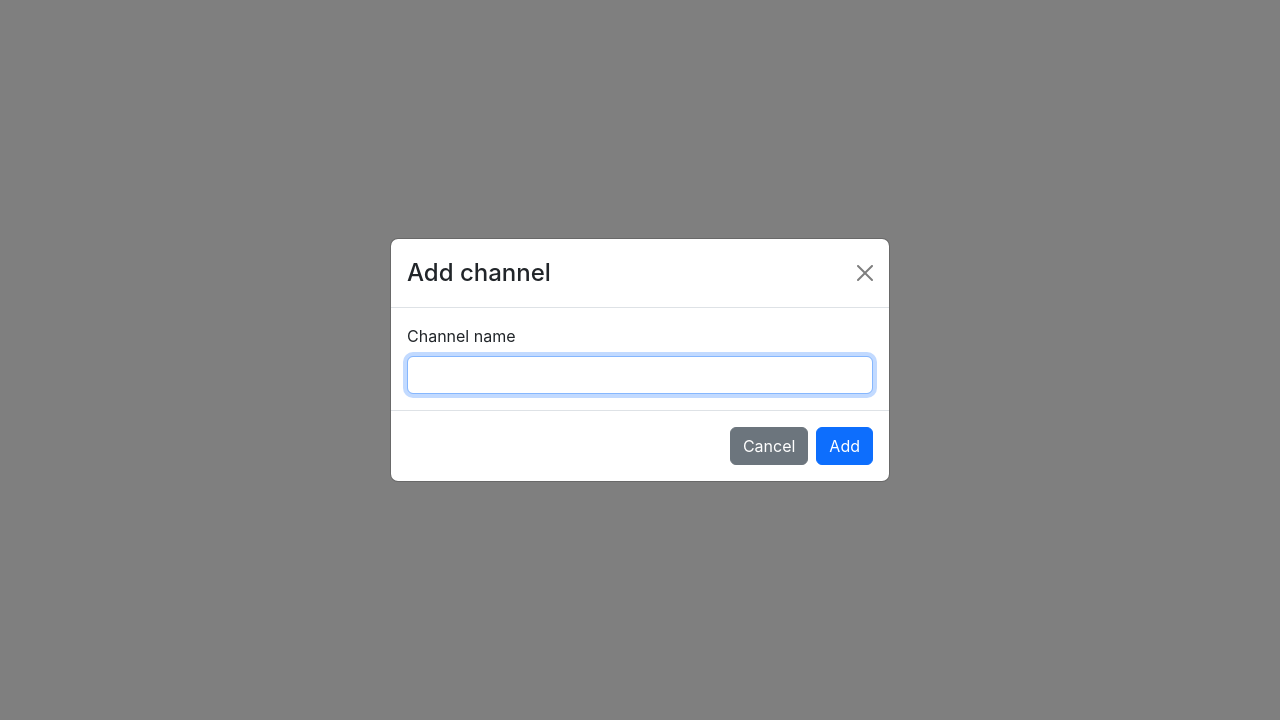
Test: AddChannelModal › shows validation error when channel name already exists
In the field labelled "Channel name": (640, 375) [407,356,873,394], type "general"
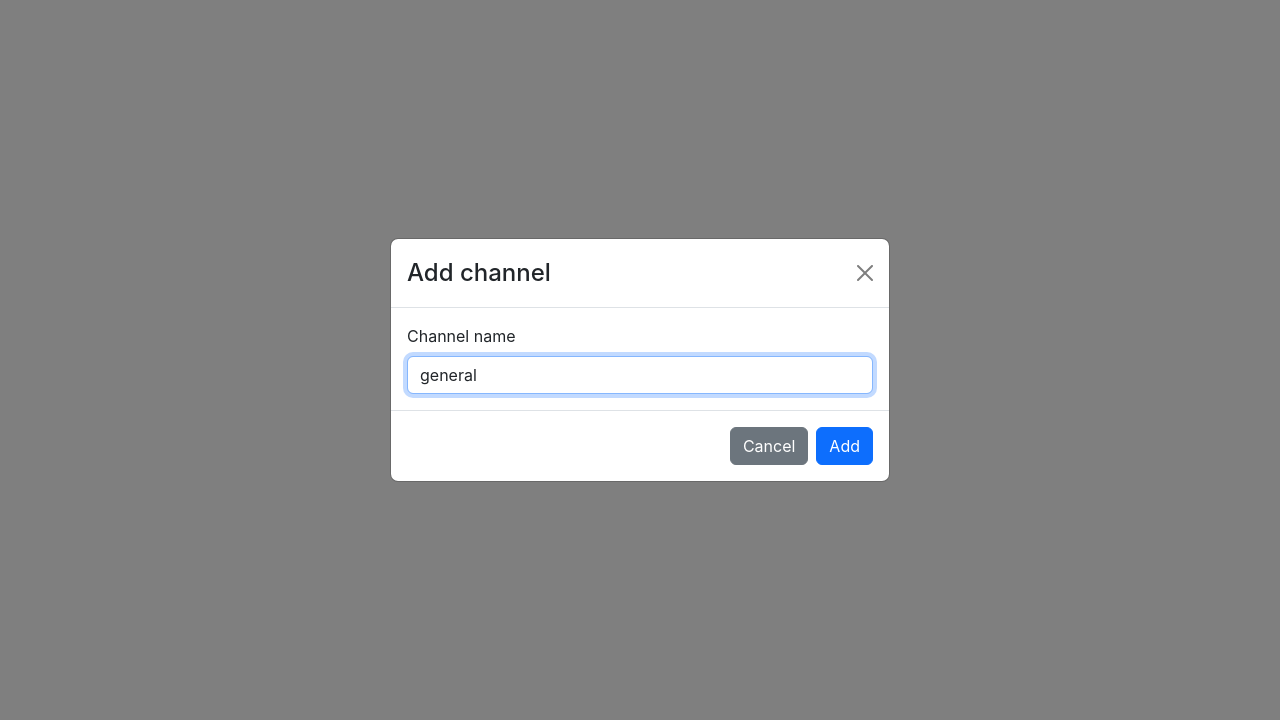
Click the button "Add": (845, 446) [816,427,873,465]
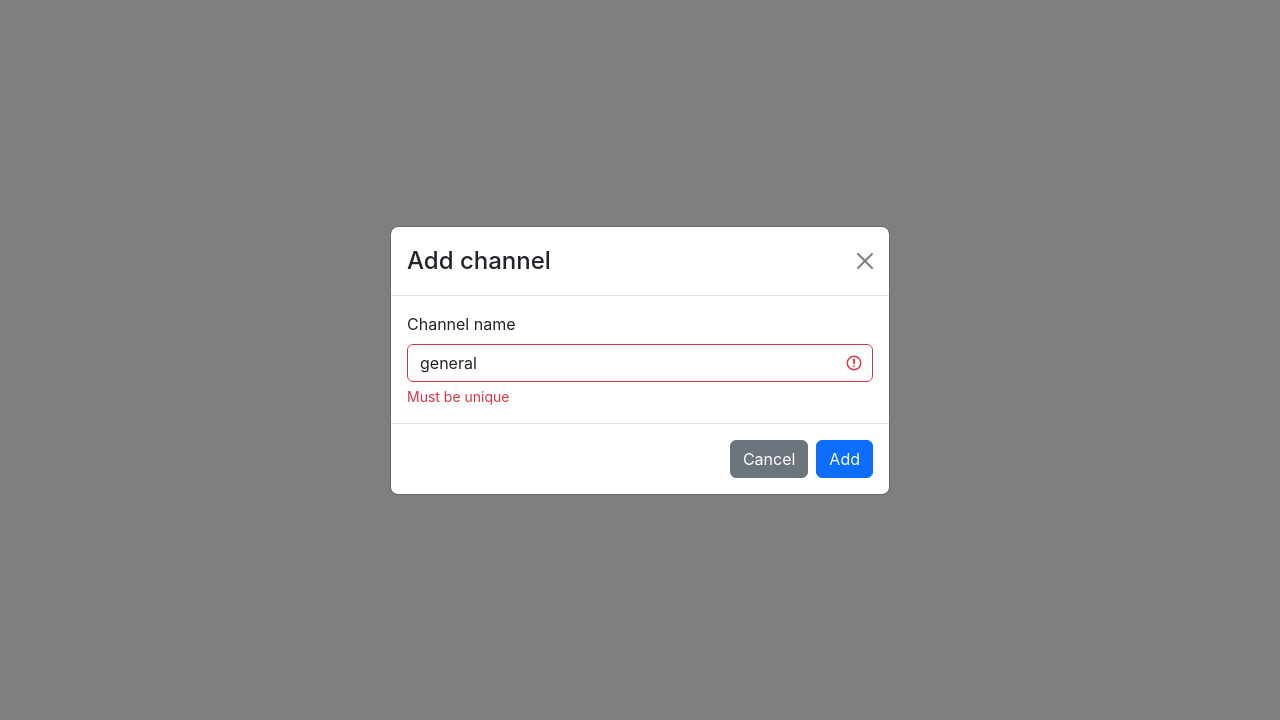
Expected: the text "Must be unique" is shown, [407,388,510,404]
